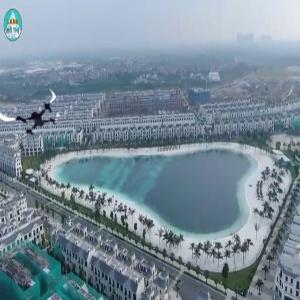drone: (5, 84, 67, 146)
